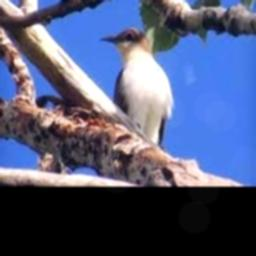Cuckoo: (98, 28, 174, 146)
